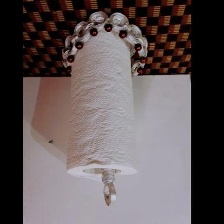tissue: (60, 24, 143, 184)
